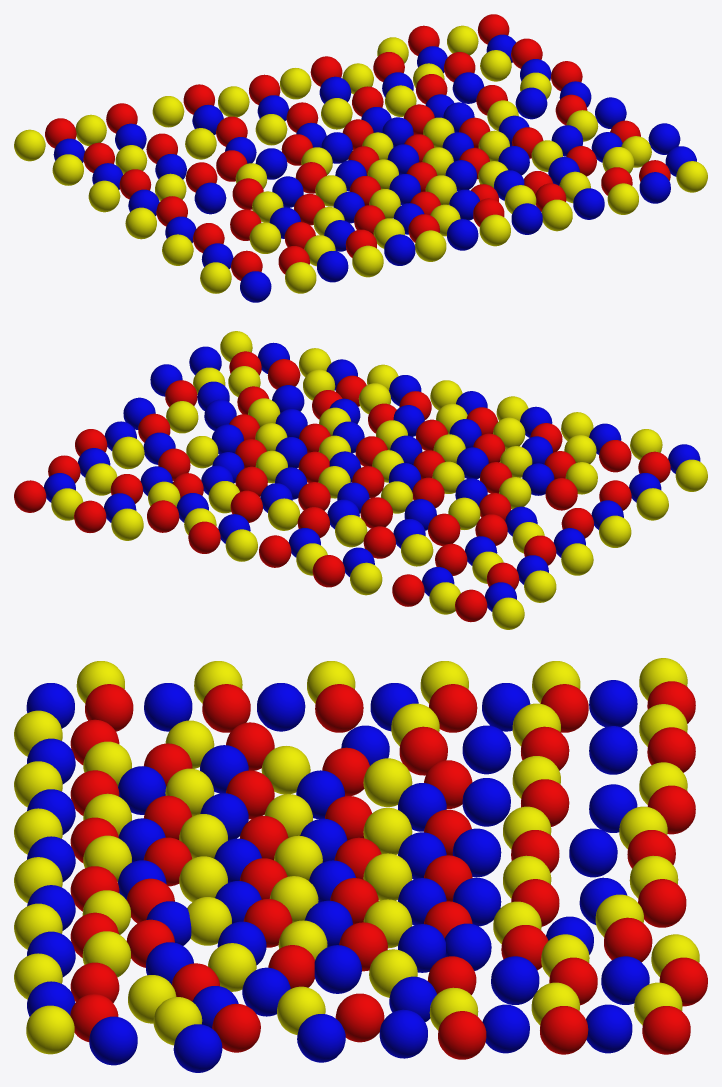
The model's file is ballpitmanyballs.fbx.
The picture shows the model from 3 angles, top to bottom: view 1: azimuth 30°, elevation 25°; view 2: azimuth 150°, elevation 25°; view 3: azimuth 270°, elevation 25°; orthographic projection. The views are drawn at different scales.
Visible parts, largest first — view 1: pasted__pasted__pasted__pasted__pasted__pasted__pasted__past; view 2: pasted__pasted__pasted__pasted__pasted__pasted__pasted__past; view 3: pasted__pasted__pasted__pasted__pasted__pasted__pasted__past.
Part boxes in pixels (x1,y1,x2,y2): pasted__pasted__pasted__pasted__pasted__pasted__pasted__past: [14, 14, 707, 302]; pasted__pasted__pasted__pasted__pasted__pasted__pasted__past: [14, 331, 707, 629]; pasted__pasted__pasted__pasted__pasted__pasted__pasted__past: [14, 658, 707, 1072].
Bounding box in the file's own units: 16.01 × 0.9844 × 12.21.
